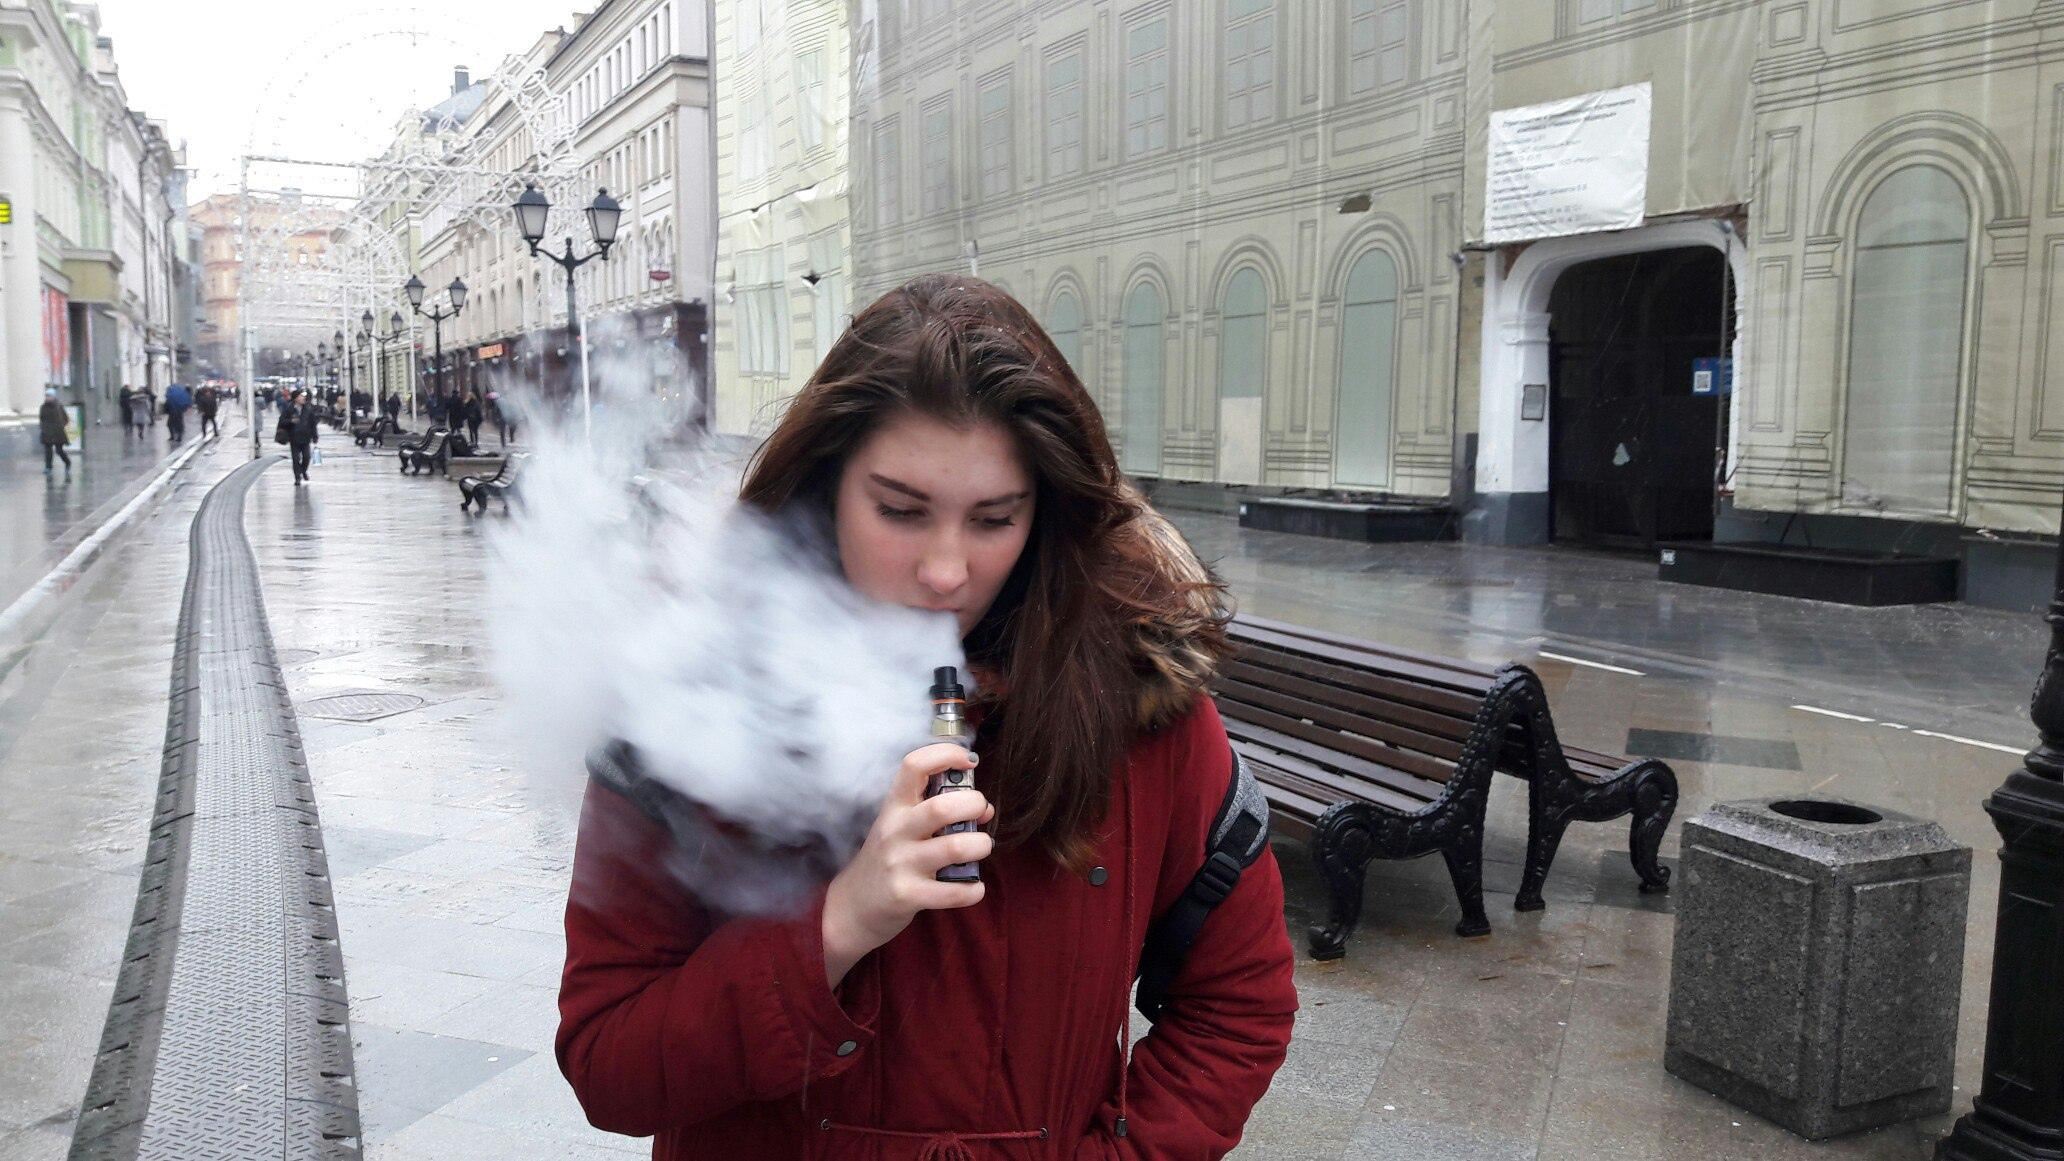Vape: (924, 665, 980, 882)
